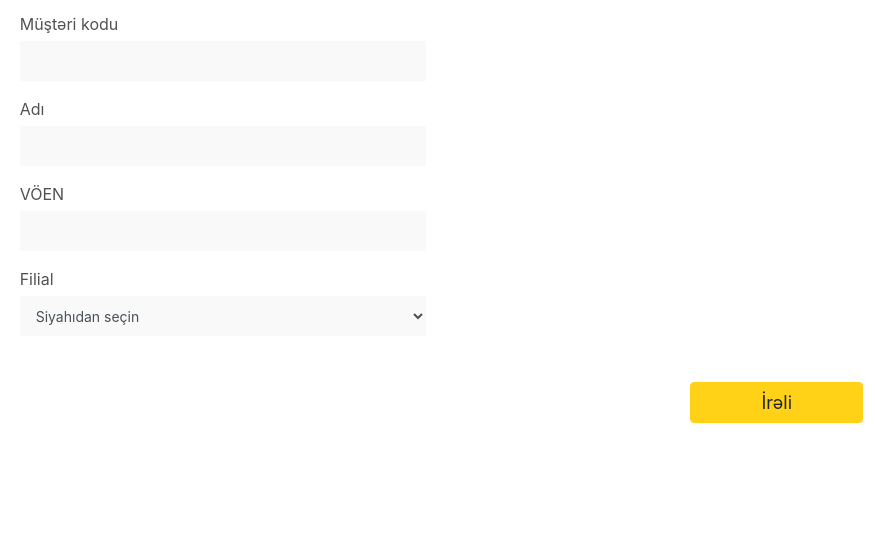
it: CustomerInformationForm validation
Check: the text "Müştəri kodu" is shown, box [20,12,118,36]
Check: the text "Adı" is shown, box [20,97,44,121]
Click the button with test id "submit-customer-info" at (777, 402), box [690,382,863,423]
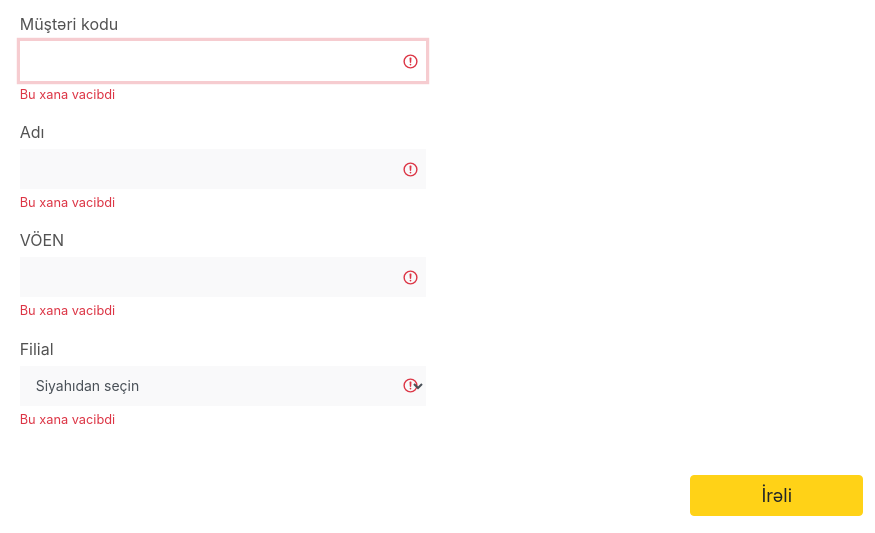
Check: the text "Bu xana vacibdi" is shown 4 times, box [20,87,115,102]; [20,195,115,210]; [20,303,115,318]; [20,412,115,427]
Type "aabbccdd" into the field with test id "customer-code" at (223, 61), box [20,41,426,81]
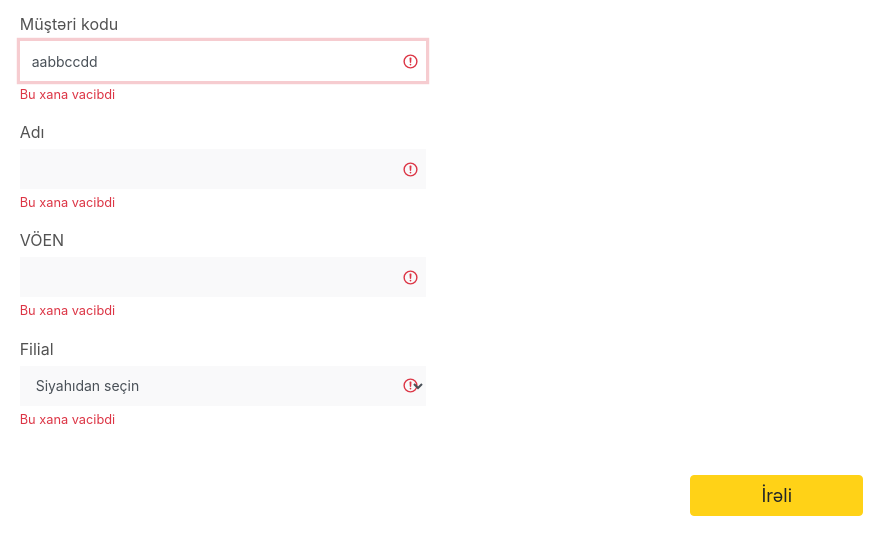
Click the button with test id "submit-customer-info" at (777, 495), box [690,475,863,516]
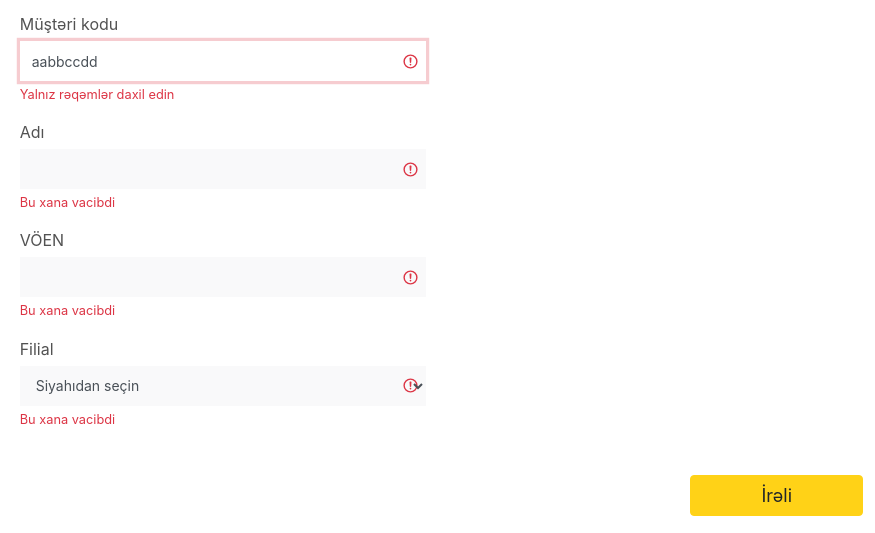
Check: the text "Yalnız rəqəmlər daxil edin" is shown, box [20,87,174,102]
Replace the text in the field with test id "customer-code" with "aabbcc" at (223, 61), box [20,41,426,81]
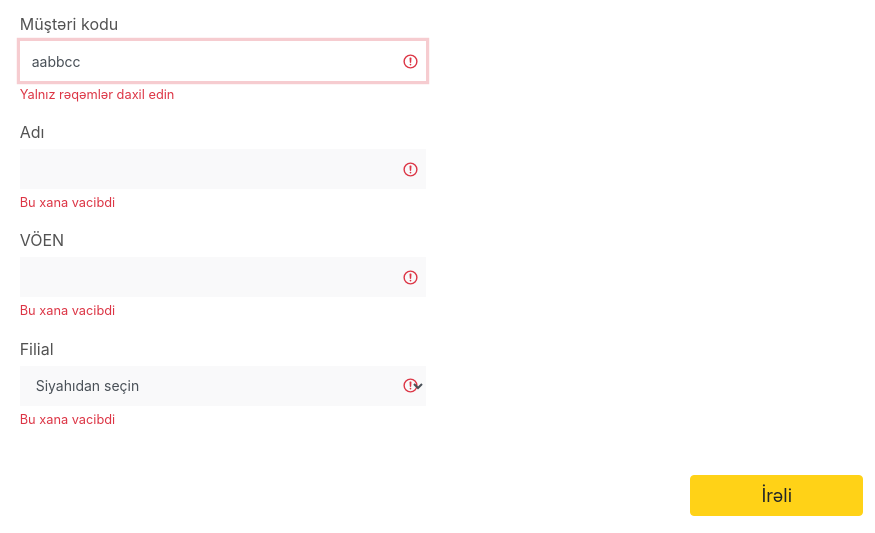
Click the button with test id "submit-customer-info" at (777, 495), box [690,475,863,516]
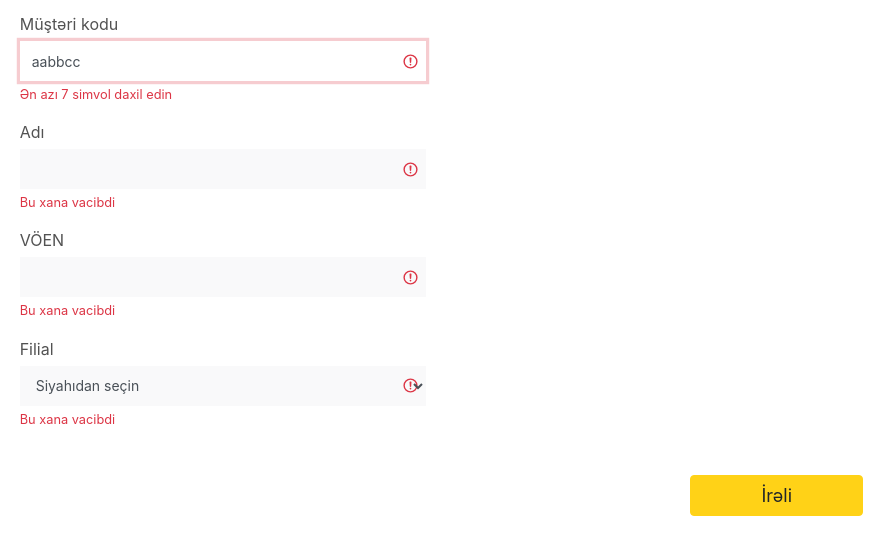
Check: the text "Ən azı 7 simvol daxil edin" is shown, box [20,87,172,102]
